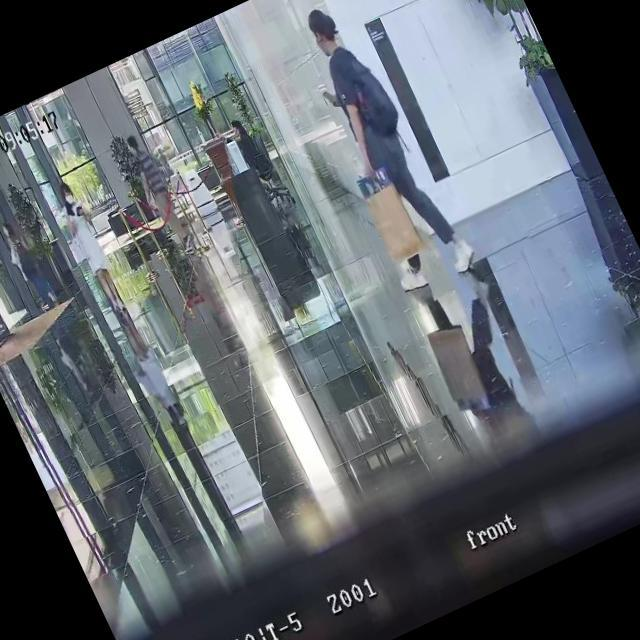person: (287, 0, 481, 296), (48, 178, 156, 370), (47, 179, 132, 319), (120, 130, 199, 258), (0, 217, 61, 315), (228, 116, 264, 170)
